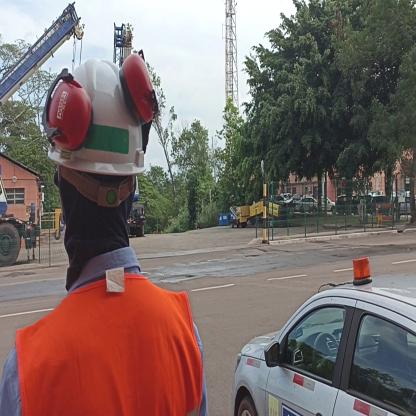Balaclava: (59, 164, 136, 273)
Capacete: (53, 49, 146, 170)
